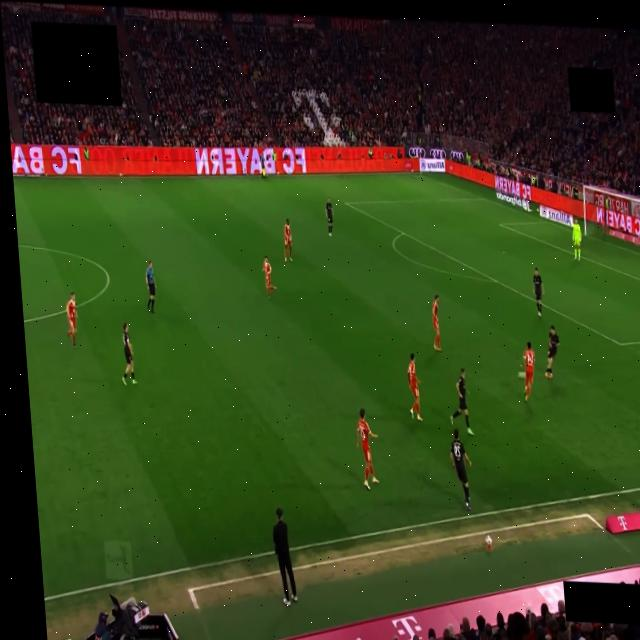ball: (517, 372, 524, 379)
player: (356, 409, 378, 489), (450, 428, 470, 510), (450, 368, 473, 435), (541, 325, 562, 379), (407, 353, 422, 421), (122, 323, 136, 384), (430, 294, 443, 352), (523, 342, 534, 402), (66, 292, 76, 347), (262, 256, 275, 298), (533, 268, 543, 318), (571, 219, 581, 261), (325, 198, 335, 237), (283, 219, 291, 261)
referee: (145, 261, 155, 312)
